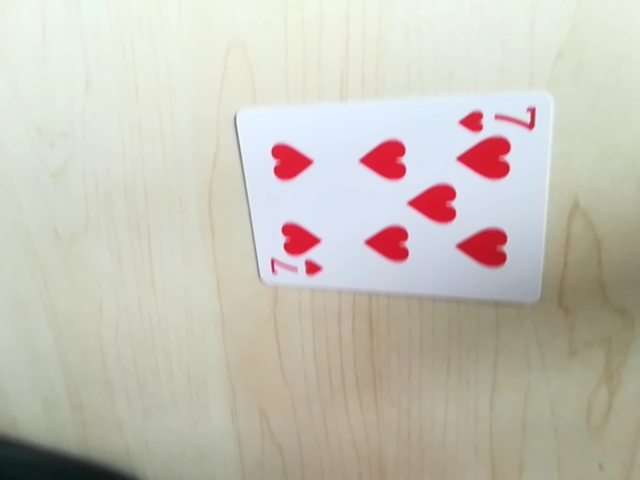hx 7: (454, 96, 544, 134), (263, 255, 327, 286)
